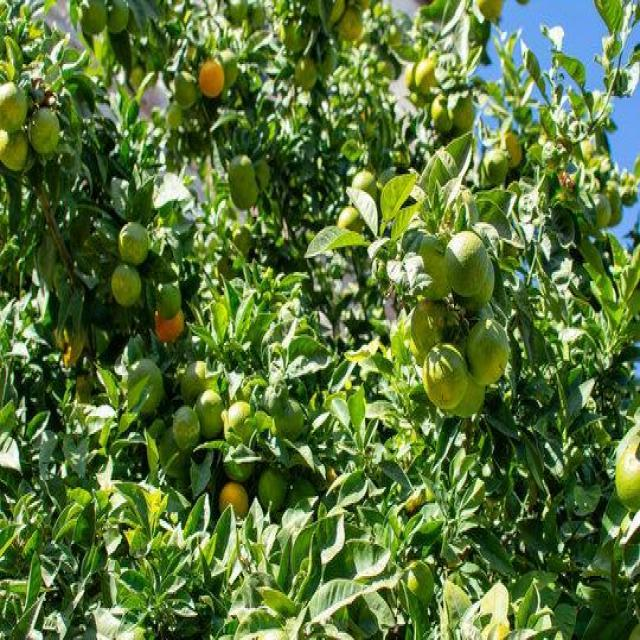Jeruk Belum Matang: (422, 343, 469, 411), (409, 300, 460, 362), (444, 231, 490, 299), (467, 322, 510, 388), (127, 360, 166, 412), (616, 432, 640, 510), (456, 366, 488, 416), (406, 558, 434, 612), (0, 84, 30, 134), (197, 391, 226, 441), (112, 266, 144, 310), (225, 400, 256, 444), (32, 110, 60, 155), (120, 222, 150, 263), (276, 16, 308, 54), (172, 407, 200, 450), (181, 362, 212, 400), (449, 92, 477, 134), (77, 0, 109, 36), (258, 472, 287, 510), (278, 400, 304, 441), (1, 132, 29, 170), (336, 7, 366, 41), (229, 156, 255, 194), (416, 58, 441, 96), (106, 0, 132, 34), (432, 98, 456, 134), (174, 74, 199, 108), (156, 284, 182, 316), (338, 206, 362, 238), (351, 171, 376, 201), (484, 151, 507, 183), (234, 181, 258, 208), (298, 60, 316, 90), (594, 195, 610, 228), (321, 52, 337, 78)
Jeruk Sudah Matang: (220, 483, 250, 522), (154, 313, 187, 345), (199, 62, 224, 100)
